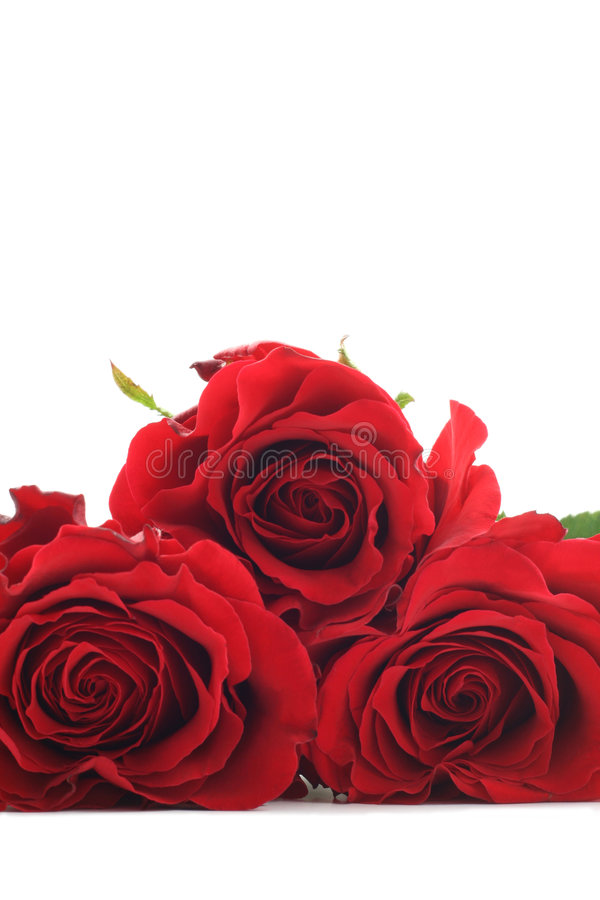RedRose: (96, 321, 534, 641), (12, 462, 319, 847), (325, 505, 600, 802)
